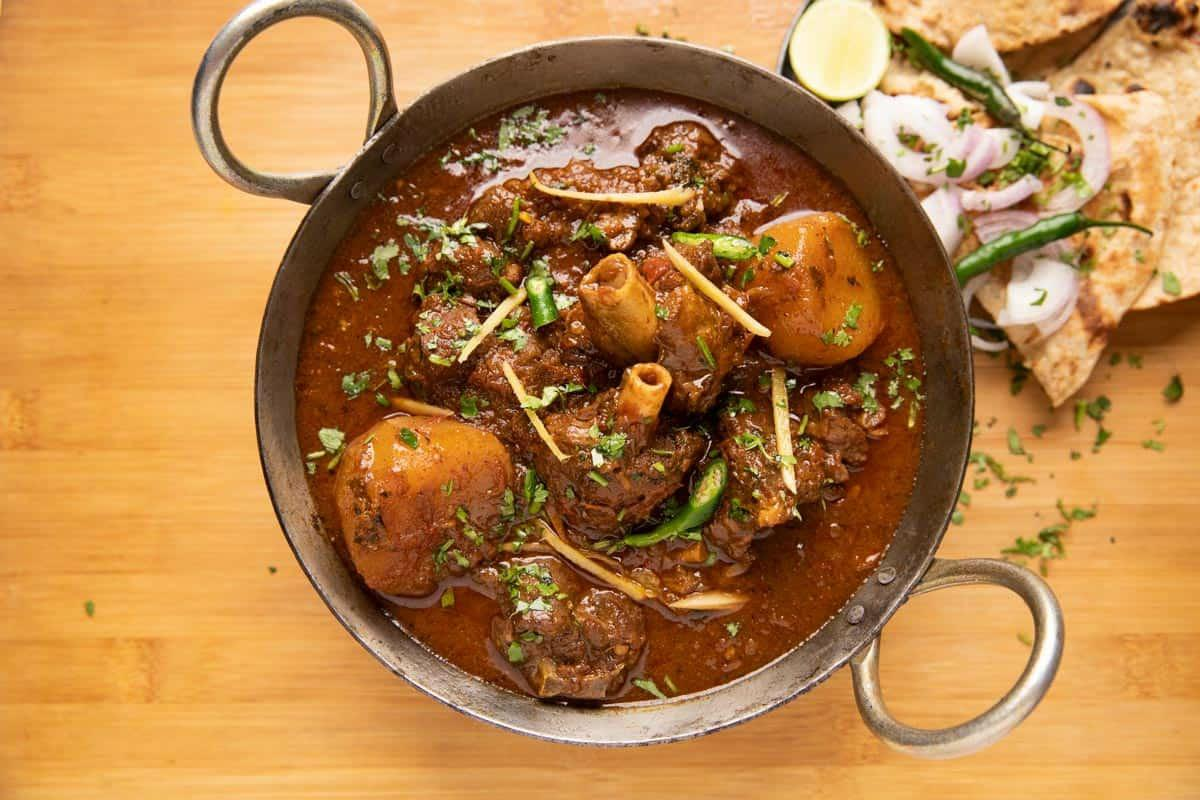MuttonCurry: (302, 88, 918, 705)
